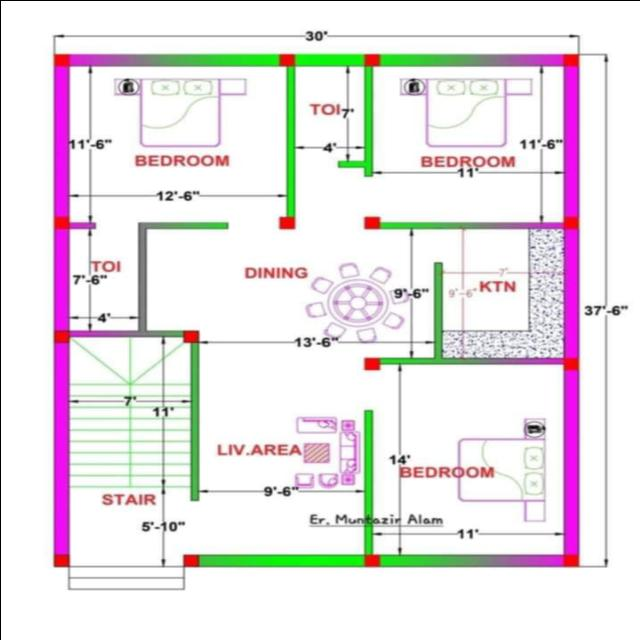column: (354, 352, 390, 376), (553, 548, 591, 570), (43, 549, 75, 573), (268, 210, 302, 232), (44, 213, 76, 236), (554, 352, 586, 374), (43, 325, 76, 346), (272, 48, 300, 72), (556, 49, 584, 72), (177, 326, 206, 348), (178, 549, 204, 573), (46, 49, 73, 71), (558, 212, 584, 234), (357, 548, 383, 570), (356, 212, 384, 232), (359, 48, 382, 68)
